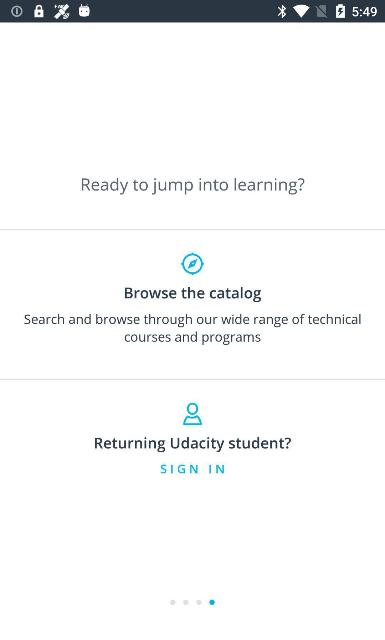Icon: (180, 252, 204, 276), (183, 402, 203, 426)
PageIndicator: (169, 598, 215, 606)
Text: (24, 313, 360, 345), (81, 177, 305, 195), (94, 436, 292, 452), (124, 286, 262, 302), (160, 464, 224, 474)
UpperTaskBar: (0, 0, 384, 22)
